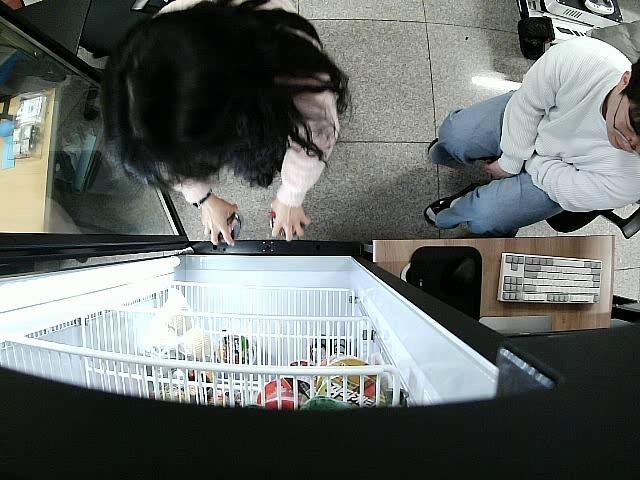08_buldak_S: (268, 212, 304, 235), (218, 214, 242, 245)
